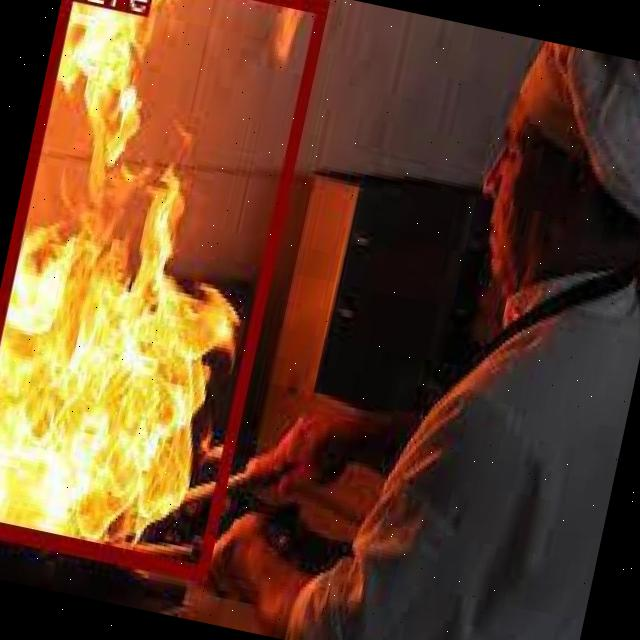fire: (0, 0, 329, 576)
